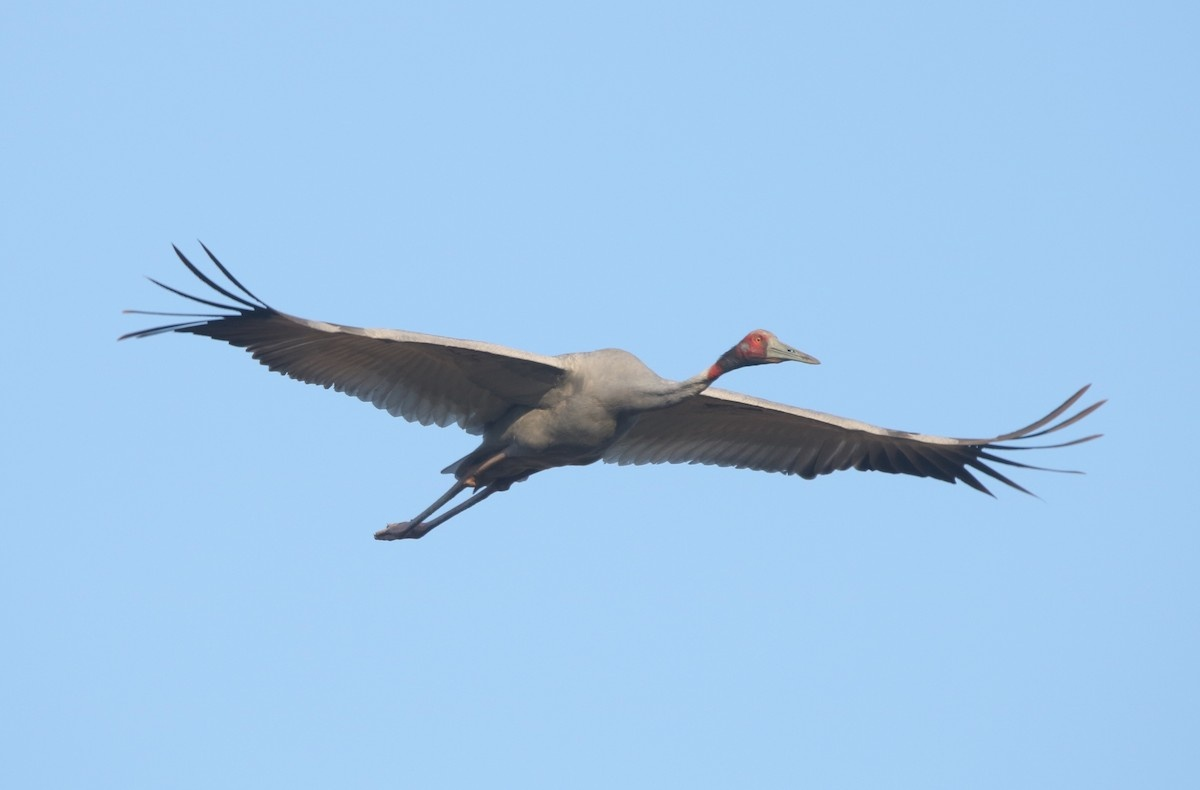crane: (108, 228, 1120, 570)
